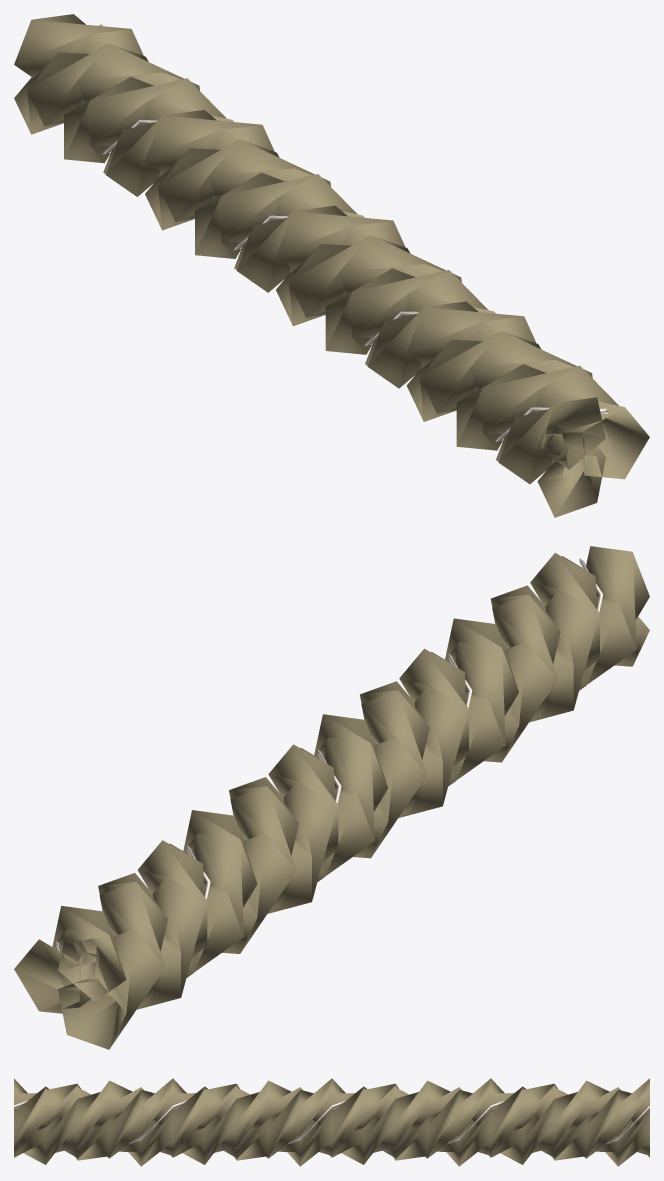
The model's file is careerRope.glb.
3 renders of one model, top to bottom at view 1: azimuth 30°, elevation 25°; view 2: azimuth 150°, elevation 25°; view 3: azimuth 270°, elevation 25°, orthographic. The views are drawn at different scales.
Visible parts, largest first — view 1: careerRope; view 2: careerRope; view 3: careerRope.
Boxes of the visible parts, x1,y1,x2,y2 form: careerRope: (14,14,649,517); careerRope: (14,546,649,1049); careerRope: (14,1078,649,1166).
Size of the model in its own units: 0.1385 by 0.1392 by 1.
Materials: 1 (1 with a texture image).
